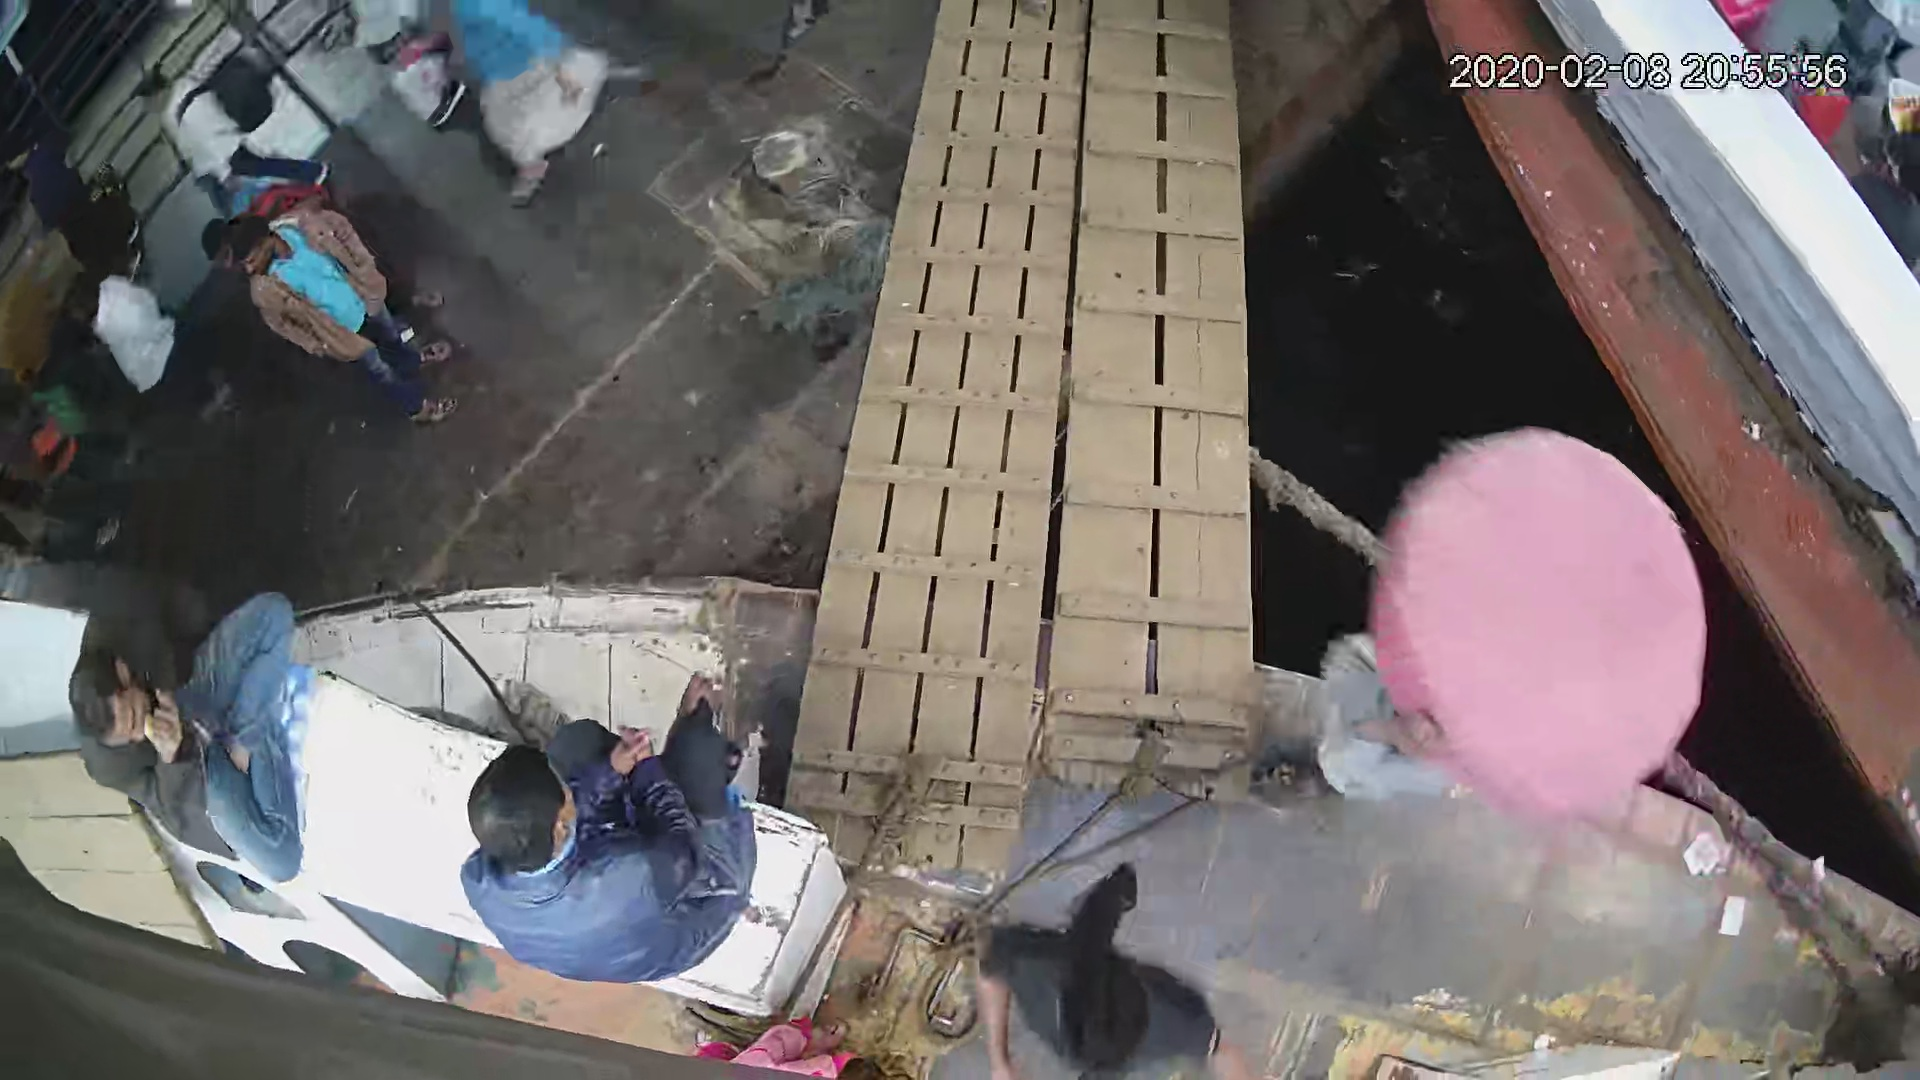person: (1283, 423, 1712, 833), (458, 673, 758, 997), (58, 565, 305, 892), (224, 210, 457, 434), (970, 879, 1227, 1080), (430, 1, 625, 223), (62, 266, 224, 431), (130, 58, 328, 189)
